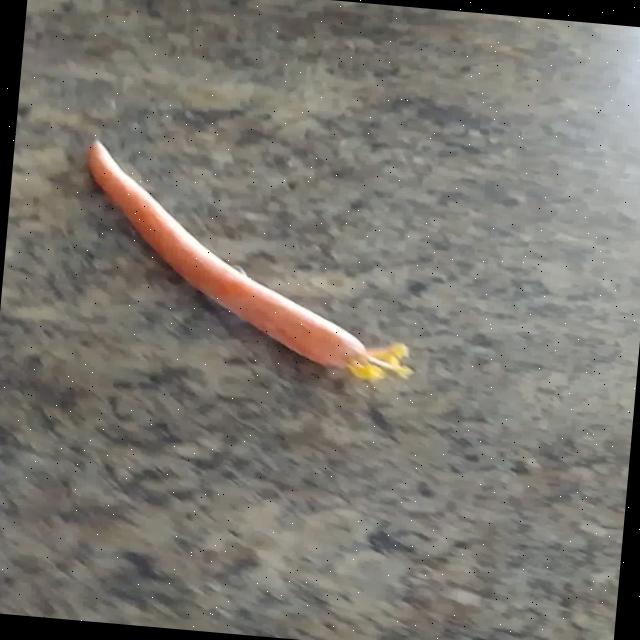carrot: (88, 141, 411, 380)
